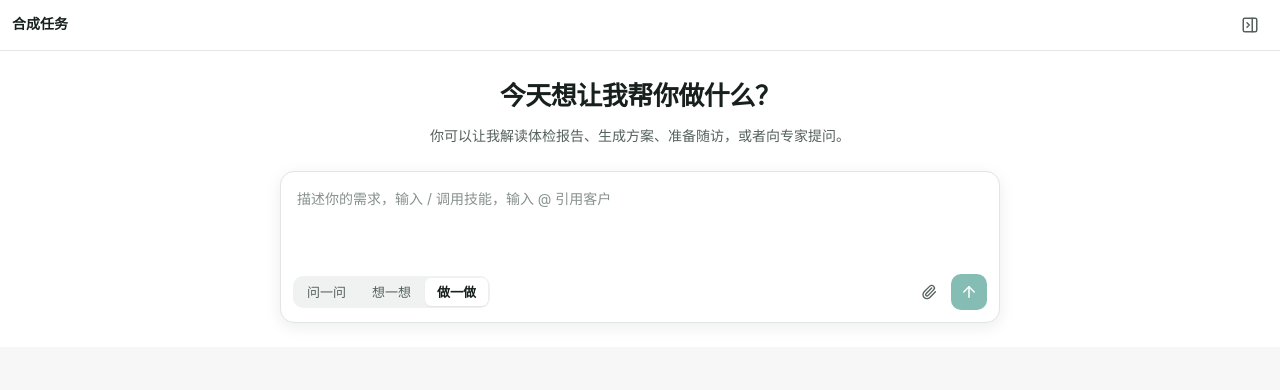
Scenario: ChatPane sending and streaming › stop posts to the stop endpoint and keeps the generated text
In the text box: (640, 220) [293, 184, 987, 256], type "合成问题"
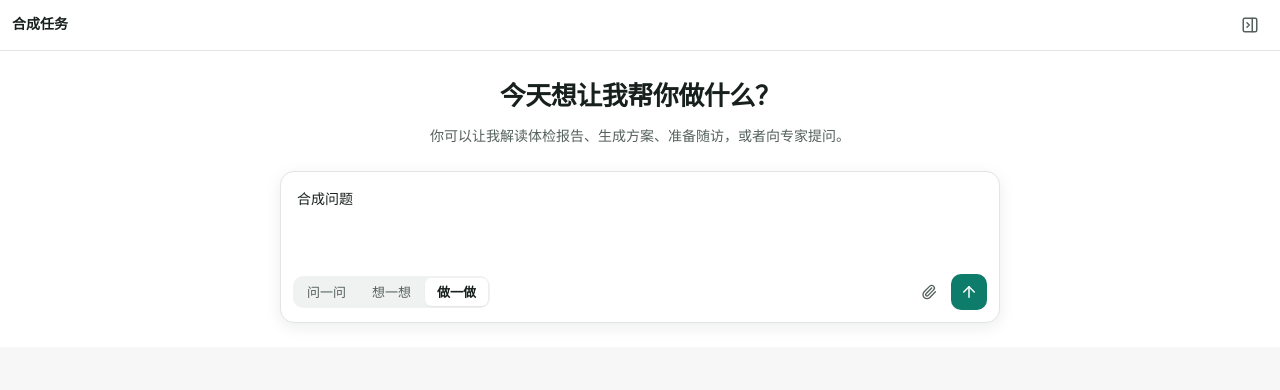
Press Enter
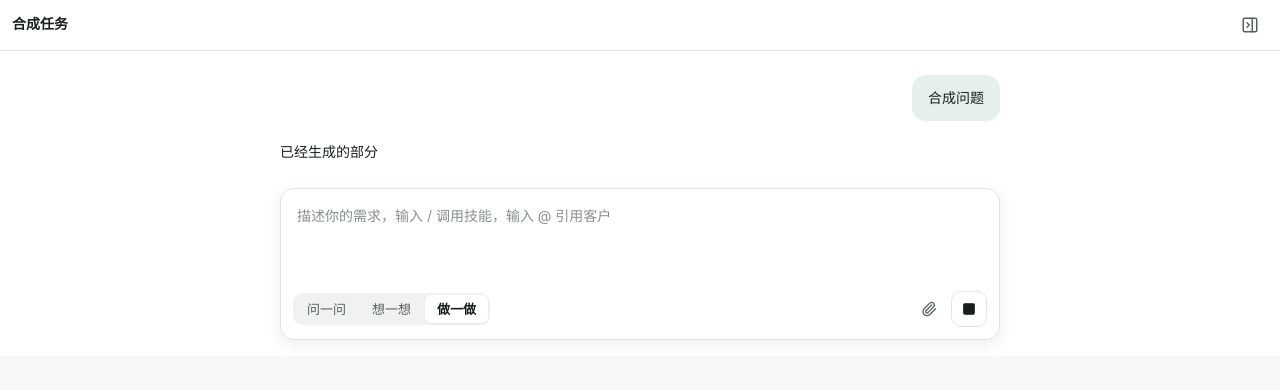
Check: the text "已经生成的部分" is shown, box [280, 143, 378, 160]
Click the button named "停止生成": click(969, 309) [951, 291, 987, 327]
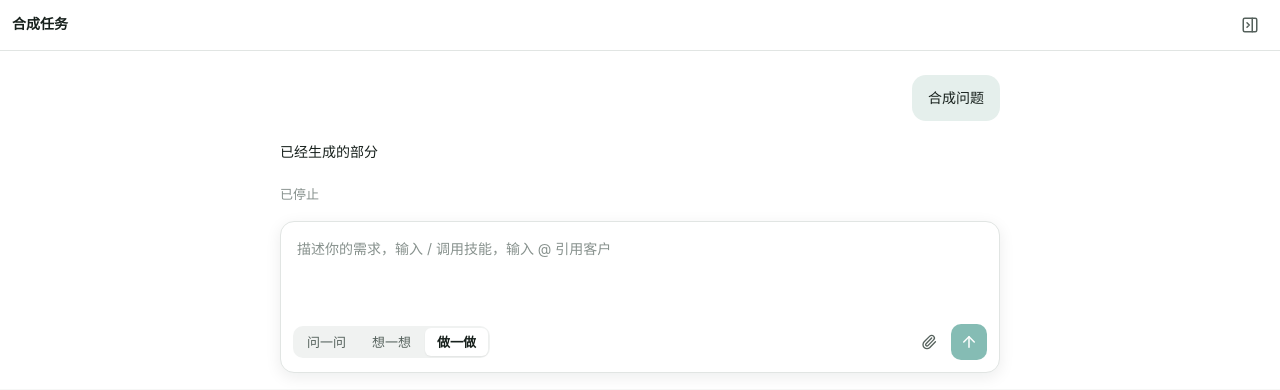
Check: the text "已经生成的部分" is shown, box [280, 143, 378, 160]
Check: the text "已停止" is shown, box [280, 184, 319, 205]
Check: the button named "发送" is shown, box [951, 324, 987, 360]
